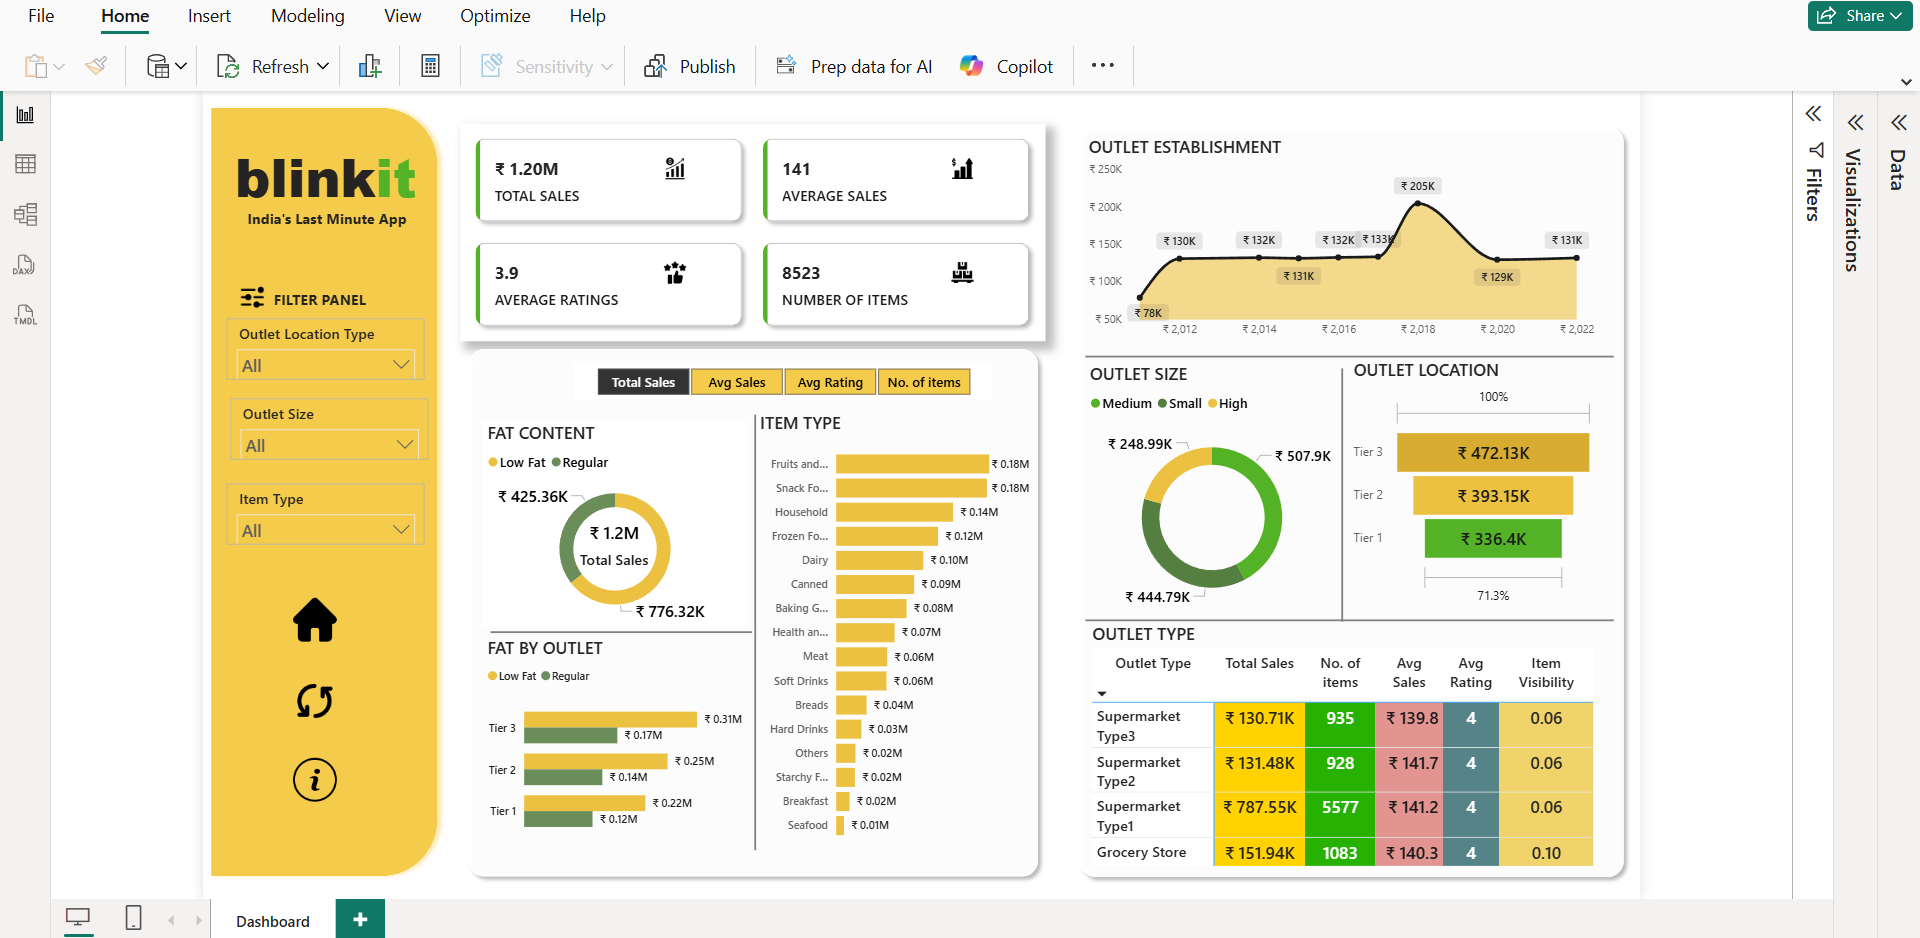

This screenshot's page, from the dashboard's own definition file:
{"tool":"powerbi","page":{"name":"Dashboard","canvas":[1600,900],"ordinal":0},"visuals":[{"type":"shape","box":[0,10,270,873.3],"z":0},{"type":"textbox","box":[30,48.6,232.9,95.7],"z":1000},{"type":"textbox","box":[44.3,125.7,205.7,37.1],"z":2000},{"type":"cardVisual","fields":{"Data":["BlinkIT Grocery Data.Total Sales","BlinkIT Grocery Data.Avg Sales","BlinkIT Grocery Data.Avg Rating","BlinkIT Grocery Data.Number of items"]},"box":[286.5,36.2,651.5,242.8],"z":3000},{"type":"shape","box":[286.7,278.3,651.7,605],"z":4000},{"type":"donutChart","title":"FAT CONTENT","fields":{"Y":["BlinkIT Grocery Data.Total Sales"],"Category":["BlinkIT Grocery Data.Item Fat Content"]},"box":[311.7,367.3,294.3,228.6],"z":5000},{"type":"slicer","fields":{"Values":["Metrics.Metrics"]},"box":[413.2,301.6,464.5,40.7],"z":6000},{"type":"card","fields":{"Values":["BlinkIT Grocery Data.Total Sales"]},"box":[406.7,456.7,103.3,95],"z":7000},{"type":"clusteredBarChart","title":"FAT BY OUTLET","fields":{"Y":["BlinkIT Grocery Data.Total Sales"],"Category":["BlinkIT Grocery Data.Outlet Location Type"],"Series":["BlinkIT Grocery Data.Item Fat Content"]},"box":[311.7,606.7,295,238.3],"z":8000},{"type":"shape","box":[320,580,291.4,44.3],"z":9000},{"type":"shape","box":[595,360,38.3,485],"z":10000},{"type":"barChart","title":"ITEM TYPE","fields":{"Y":["BlinkIT Grocery Data.Total Sales"],"Category":["BlinkIT Grocery Data.Item Type"]},"box":[615,356.7,310,488.3],"z":11000},{"type":"shape","box":[966.7,30,623.3,853.3],"z":12000},{"type":"lineChart","title":"OUTLET ESTABLISHMENT","fields":{"Category":["BlinkIT Grocery Data.Outlet Establishment Year"],"Y":["BlinkIT Grocery Data.Total Sales"]},"box":[981.7,48.3,573.3,235],"z":13000},{"type":"shape","box":[981.7,279,588.1,34.7],"z":14000},{"type":"donutChart","title":"OUTLET SIZE","fields":{"Y":["BlinkIT Grocery Data.Total Sales"],"Category":["BlinkIT Grocery Data.Outlet Size"]},"box":[981.7,301.6,282,289.5],"z":15000},{"type":"shape","box":[1248.3,308.3,40,281.7],"z":16000},{"type":"funnel","title":"OUTLET LOCATION","fields":{"Y":["Sum(BlinkIT Grocery Data.Sales)"],"Category":["BlinkIT Grocery Data.Outlet Location Type"]},"box":[1275.8,297.1,277.5,280.5],"z":17000},{"type":"shape","box":[981.7,571.6,588.1,34.7],"z":18000},{"type":"pivotTable","title":"OUTLET TYPE","fields":{"Rows":["BlinkIT Grocery Data.Outlet Type"],"Values":["BlinkIT Grocery Data.Total Sales","BlinkIT Grocery Data.No. of items","BlinkIT Grocery Data.Avg Sales","BlinkIT Grocery Data.Avg Rating","Avg(BlinkIT Grocery Data.Item Visibility)"]},"box":[984.8,591.2,588.1,282],"z":19000},{"type":"slicer","fields":{"Values":["BlinkIT Grocery Data.Outlet Location Type"]},"box":[26.7,253.3,220,68.3],"z":20000},{"type":"slicer","fields":{"Values":["BlinkIT Grocery Data.Outlet Size"]},"box":[30,341.7,220,68.3],"z":21000},{"type":"slicer","fields":{"Values":["BlinkIT Grocery Data.Item Type"]},"box":[26.7,436.7,220,68.3],"z":22000},{"type":"textbox","box":[74.2,215.7,123.7,37.7],"z":23000},{"type":"image","box":[95,559.5,60.3,58.8],"z":24000},{"type":"image","box":[36.5,206.6,37.7,46.7],"z":25000},{"type":"image","box":[95,650,60.3,58.8],"z":26000},{"type":"image","box":[95,737.4,60.3,58.8],"z":28000}]}

Visuals, with their boxes on the page's 1600x900 design canvas (x1, y1, x2, y2). These are canvas units, not pixel positions in the 1920x938 screenshot, which may show the page scaled, cropped or inside an application window:
shape: select_region(0, 10, 270, 883)
textbox: select_region(30, 49, 263, 144)
textbox: select_region(44, 126, 250, 163)
cardVisual - BlinkIT Grocery Data.Total Sales x BlinkIT Grocery Data.Avg Sales: select_region(286, 36, 938, 279)
shape: select_region(287, 278, 938, 883)
"FAT CONTENT" donutChart: select_region(312, 367, 606, 596)
slicer - Metrics.Metrics: select_region(413, 302, 878, 342)
card - BlinkIT Grocery Data.Total Sales: select_region(407, 457, 510, 552)
"FAT BY OUTLET" clusteredBarChart: select_region(312, 607, 607, 845)
shape: select_region(320, 580, 611, 624)
shape: select_region(595, 360, 633, 845)
"ITEM TYPE" barChart: select_region(615, 357, 925, 845)
shape: select_region(967, 30, 1590, 883)
"OUTLET ESTABLISHMENT" lineChart: select_region(982, 48, 1555, 283)
shape: select_region(982, 279, 1570, 314)
"OUTLET SIZE" donutChart: select_region(982, 302, 1264, 591)
shape: select_region(1248, 308, 1288, 590)
"OUTLET LOCATION" funnel: select_region(1276, 297, 1553, 578)
shape: select_region(982, 572, 1570, 606)
"OUTLET TYPE" pivotTable: select_region(985, 591, 1573, 873)
slicer - BlinkIT Grocery Data.Outlet Location Type: select_region(27, 253, 247, 322)
slicer - BlinkIT Grocery Data.Outlet Size: select_region(30, 342, 250, 410)
slicer - BlinkIT Grocery Data.Item Type: select_region(27, 437, 247, 505)
textbox: select_region(74, 216, 198, 253)
image: select_region(95, 560, 155, 618)
image: select_region(36, 207, 74, 253)
image: select_region(95, 650, 155, 709)
image: select_region(95, 737, 155, 796)
